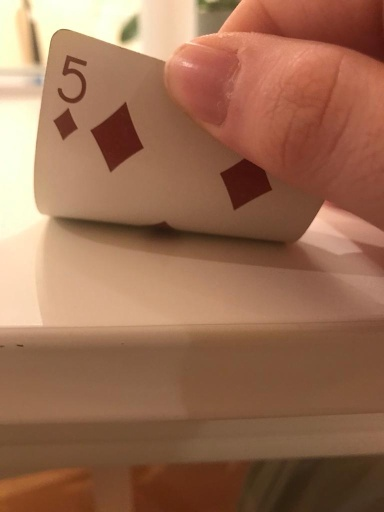D5: (46, 50, 90, 143)
